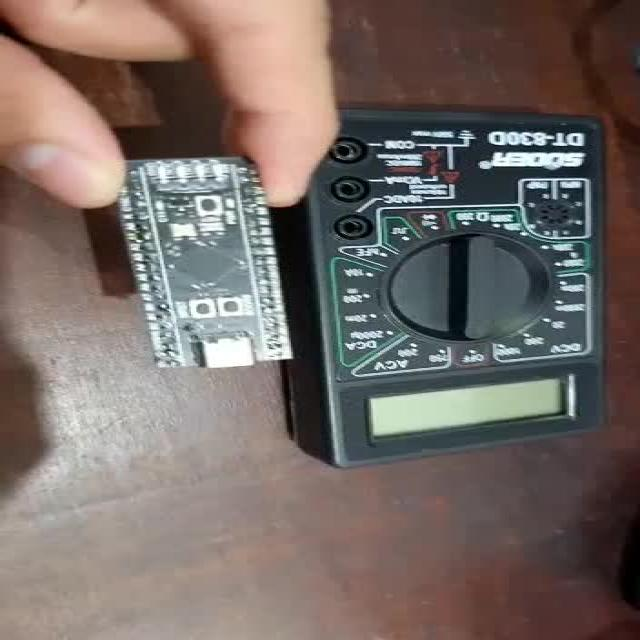multimeter: (329, 106, 615, 446)
stm32: (118, 154, 313, 366)
